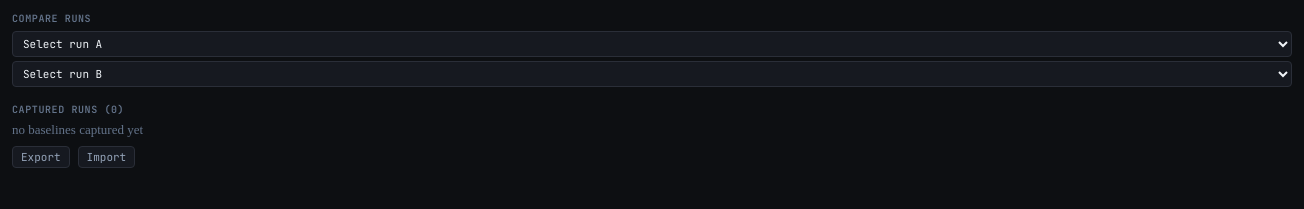
ComparePanel › shows an error message when import fails to parse
Click the button "Import" at {"x": 106, "y": 157}, box [78,146,135,168]
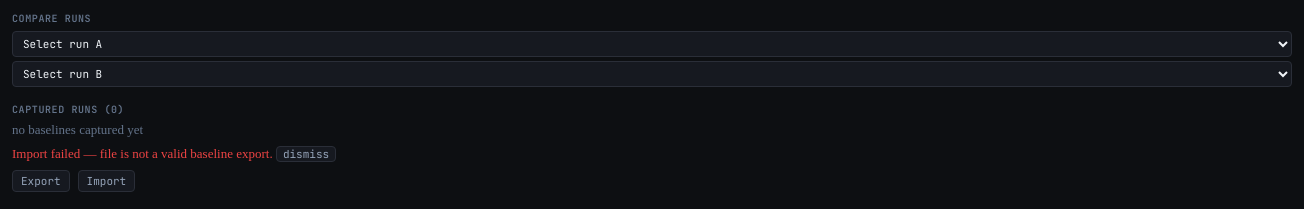
Expected: the message shows "Import failed", [12,146,273,161]
